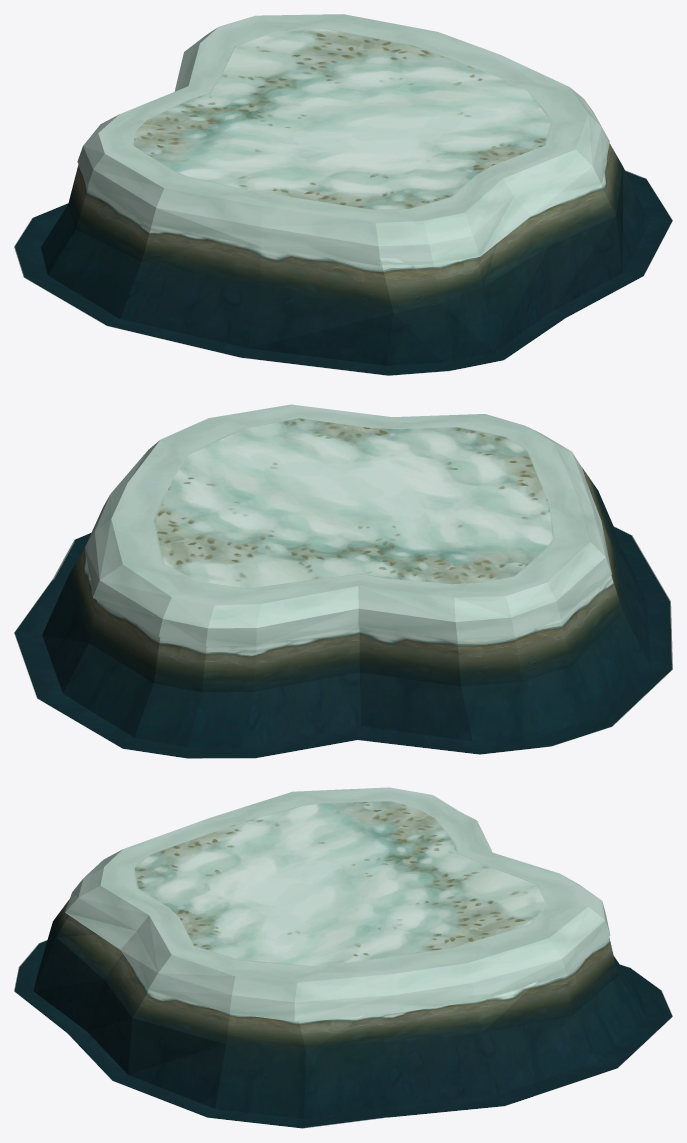
Rendered from riverbed_mesa_01.fbx.
3 renders of one model, top to bottom at view 1: azimuth 30°, elevation 25°; view 2: azimuth 150°, elevation 25°; view 3: azimuth 270°, elevation 25°, orthographic. The views are drawn at different scales.
Visible parts, largest first — view 1: obj2.002; view 2: obj2.002; view 3: obj2.002.
Part boxes in pixels (box(x1,y1,x2,y2)): obj2.002: box(14, 14, 672, 375); obj2.002: box(14, 404, 672, 758); obj2.002: box(14, 787, 672, 1128).
Size of the model in its own units: 21.13 by 4.02 by 22.11.
